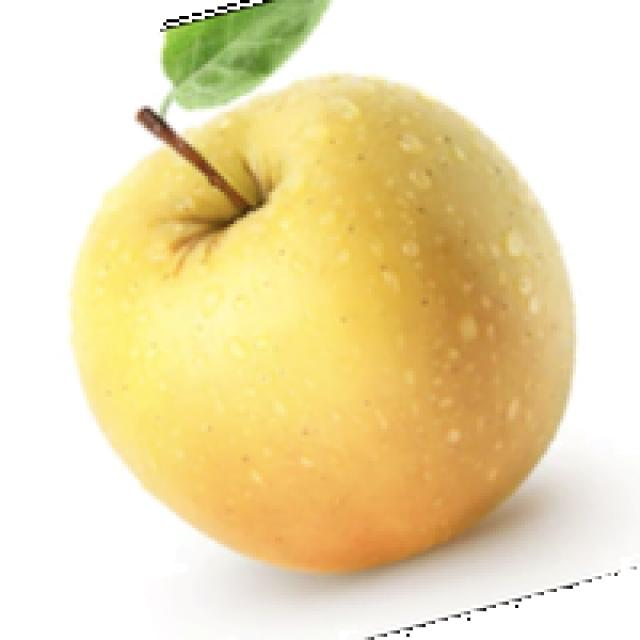apple: (64, 0, 579, 618)
